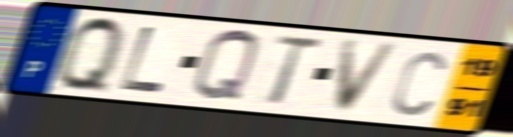C: (390, 48, 449, 118)
L: (116, 23, 169, 95)
Q: (55, 12, 127, 98), (189, 27, 262, 105)
T: (265, 34, 326, 108)
V: (333, 39, 404, 115)
